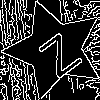Z: (30, 24, 84, 79)
